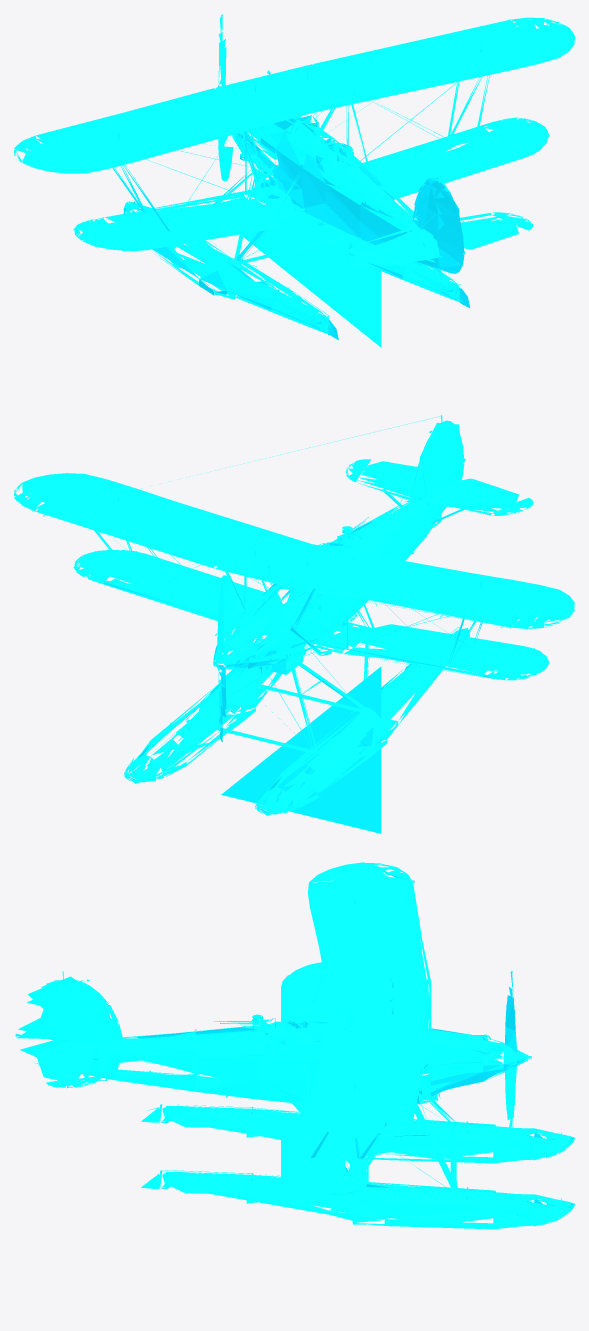
The model's file is PBAF017.glb.
The picture shows the model from 3 angles, top to bottom: view 1: azimuth 30°, elevation 25°; view 2: azimuth 150°, elevation 25°; view 3: azimuth 270°, elevation 25°; orthographic projection. The views are drawn at different scales.
Parts seen in each view (by area): view 1: misc; view 2: misc; view 3: misc.
Boxes of the visible parts, x1=… form: misc: x1=14, y1=14, x2=574, y2=347; misc: x1=14, y1=415, x2=574, y2=833; misc: x1=15, y1=862, x2=574, y2=1229.
Bounding box in the file's own units: 0.752 × 0.3875 × 0.6464.
